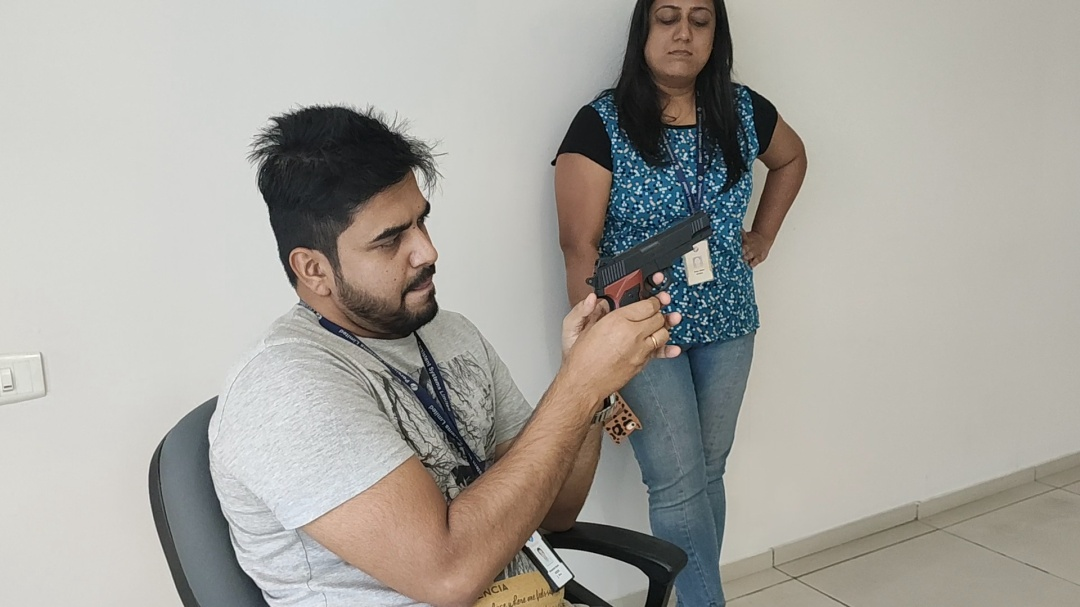gun: (584, 210, 713, 309)
